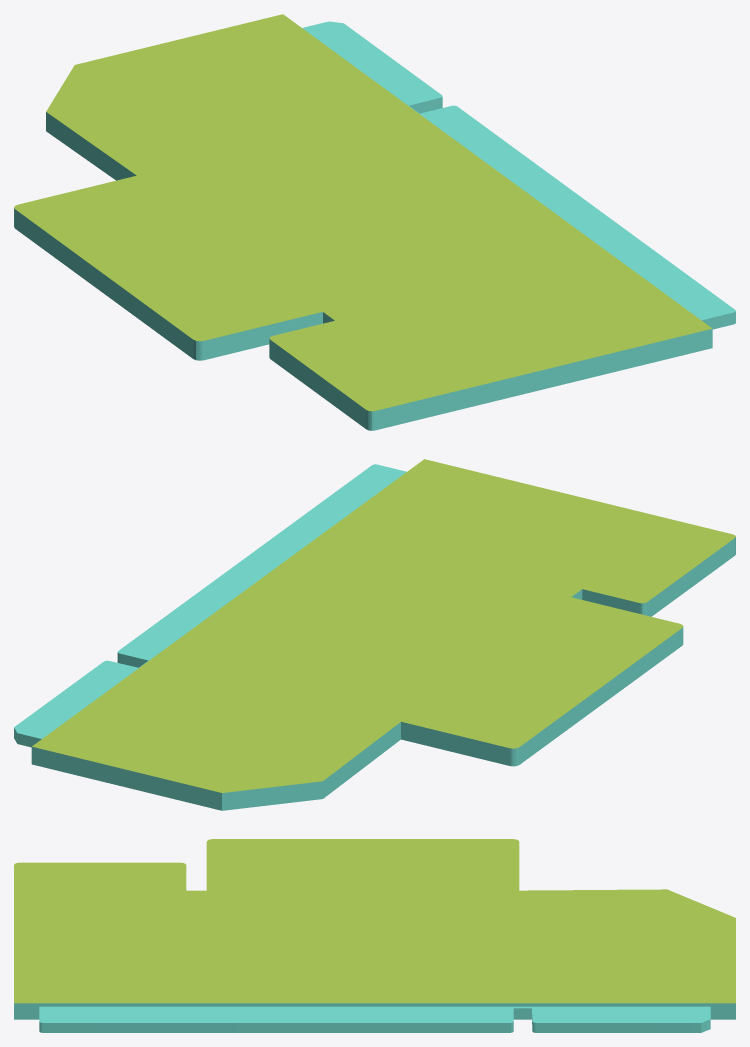
File: PCI_Board_A.fbx
3 renders of one model, top to bottom at view 1: azimuth 30°, elevation 25°; view 2: azimuth 150°, elevation 25°; view 3: azimuth 270°, elevation 25°, orthographic. The views are drawn at different scales.
Parts seen in each view (by area): view 1: PCI_Board_A; view 2: PCI_Board_A; view 3: PCI_Board_A.
Boxes of the visible parts, bbox=[...] form: PCI_Board_A: bbox=[14, 14, 735, 430]; PCI_Board_A: bbox=[14, 459, 735, 810]; PCI_Board_A: bbox=[14, 839, 735, 1032].
Size of the model in its own units: 23.7 by 1 by 40.
